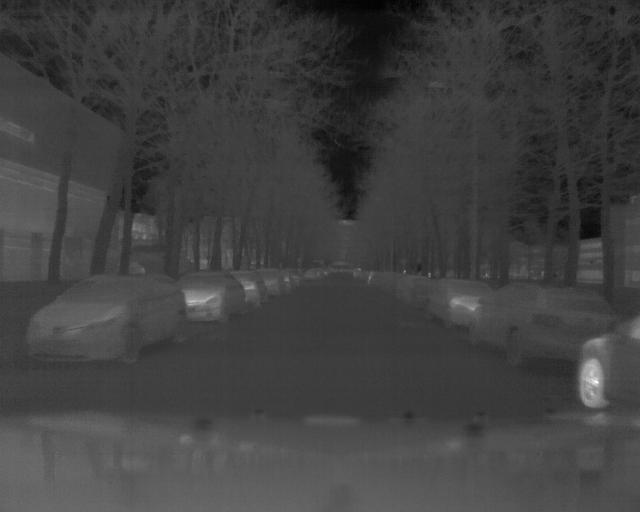car: (28, 274, 190, 365), (472, 282, 591, 358), (576, 314, 638, 411), (423, 275, 478, 330), (191, 270, 245, 323)
